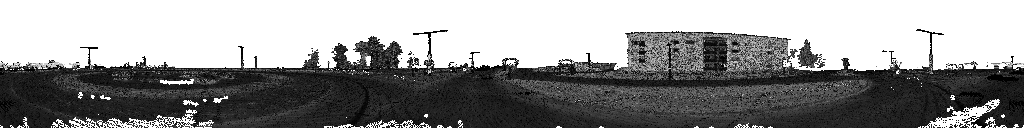light_pole: (413, 30, 448, 75), (916, 30, 943, 76), (80, 48, 97, 70), (469, 52, 480, 70), (667, 45, 671, 79), (238, 47, 243, 71), (889, 52, 895, 67), (586, 54, 590, 74), (782, 60, 785, 77), (371, 55, 373, 69)
traffic_pole: (497, 59, 518, 81), (558, 60, 573, 76), (410, 65, 427, 79), (947, 64, 958, 78), (841, 59, 849, 75), (971, 62, 977, 74), (449, 63, 456, 73)
